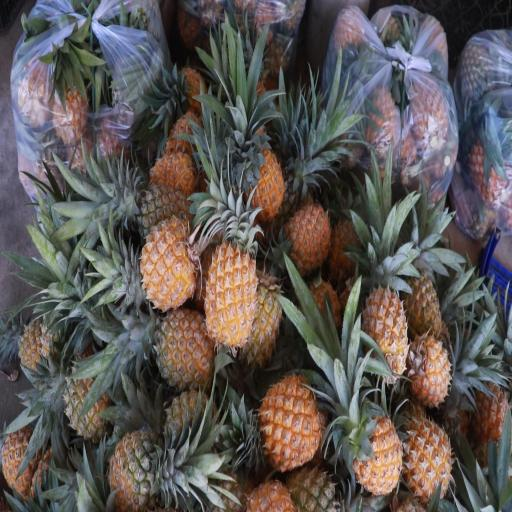------------------------------: (106, 418, 184, 512), (62, 358, 114, 443), (126, 182, 192, 248), (278, 447, 344, 512), (371, 454, 438, 512)
Pineapple - v8 v1: (259, 370, 325, 473), (145, 303, 216, 398), (204, 224, 257, 349), (137, 212, 199, 313), (359, 268, 408, 390), (399, 406, 456, 503), (240, 257, 286, 371), (464, 372, 512, 474), (283, 194, 338, 277), (400, 248, 446, 341), (405, 328, 455, 410), (13, 307, 69, 379), (243, 134, 286, 218), (0, 415, 44, 495), (149, 143, 208, 198)
